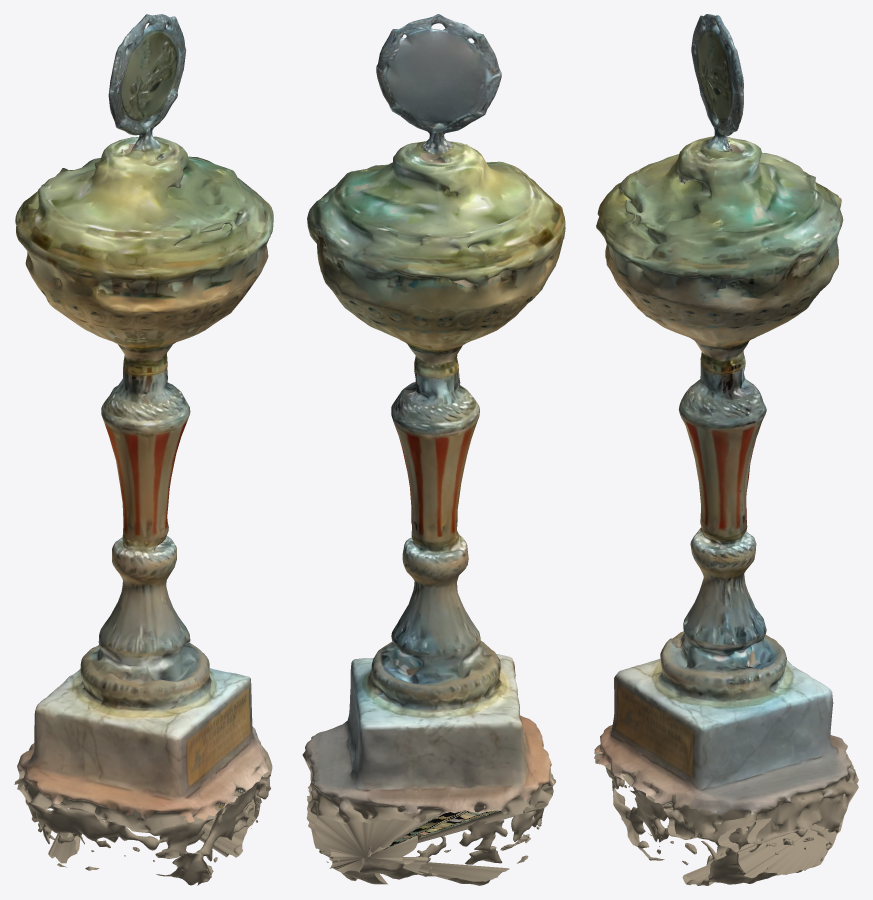
File: trofeo_low_poly_manifold.obj
3 views of the same model, side by side, from view 1: azimuth 30°, elevation 25°; view 2: azimuth 150°, elevation 25°; view 3: azimuth 270°, elevation 25° (orthographic).
Parts seen in each view (by area): view 1: mesh_lowpoly; view 2: mesh_lowpoly; view 3: mesh_lowpoly.
Boxes of the visible parts, <box> form: mesh_lowpoly: <box>14,14,273,885</box>; mesh_lowpoly: <box>302,14,565,885</box>; mesh_lowpoly: <box>594,14,858,885</box>.
Size of the model in its own units: 0.9587 by 3.25 by 0.9351.
8 materials, 8 textured.
